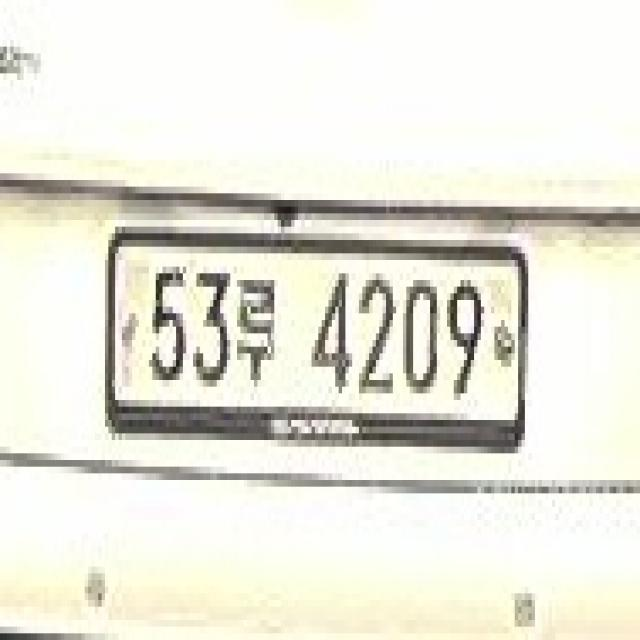0: (399, 267, 444, 400)
2: (356, 273, 400, 400)
3: (186, 254, 234, 394)
4: (312, 274, 356, 394)
5: (149, 246, 190, 386)
9: (450, 287, 498, 400)
license_plate: (95, 247, 525, 440)
lu: (230, 273, 278, 380)
